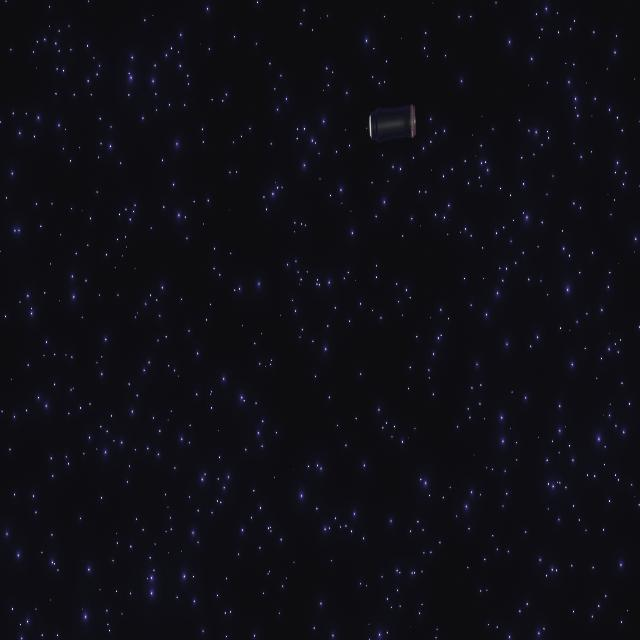large_debris: (368, 102, 417, 144)
